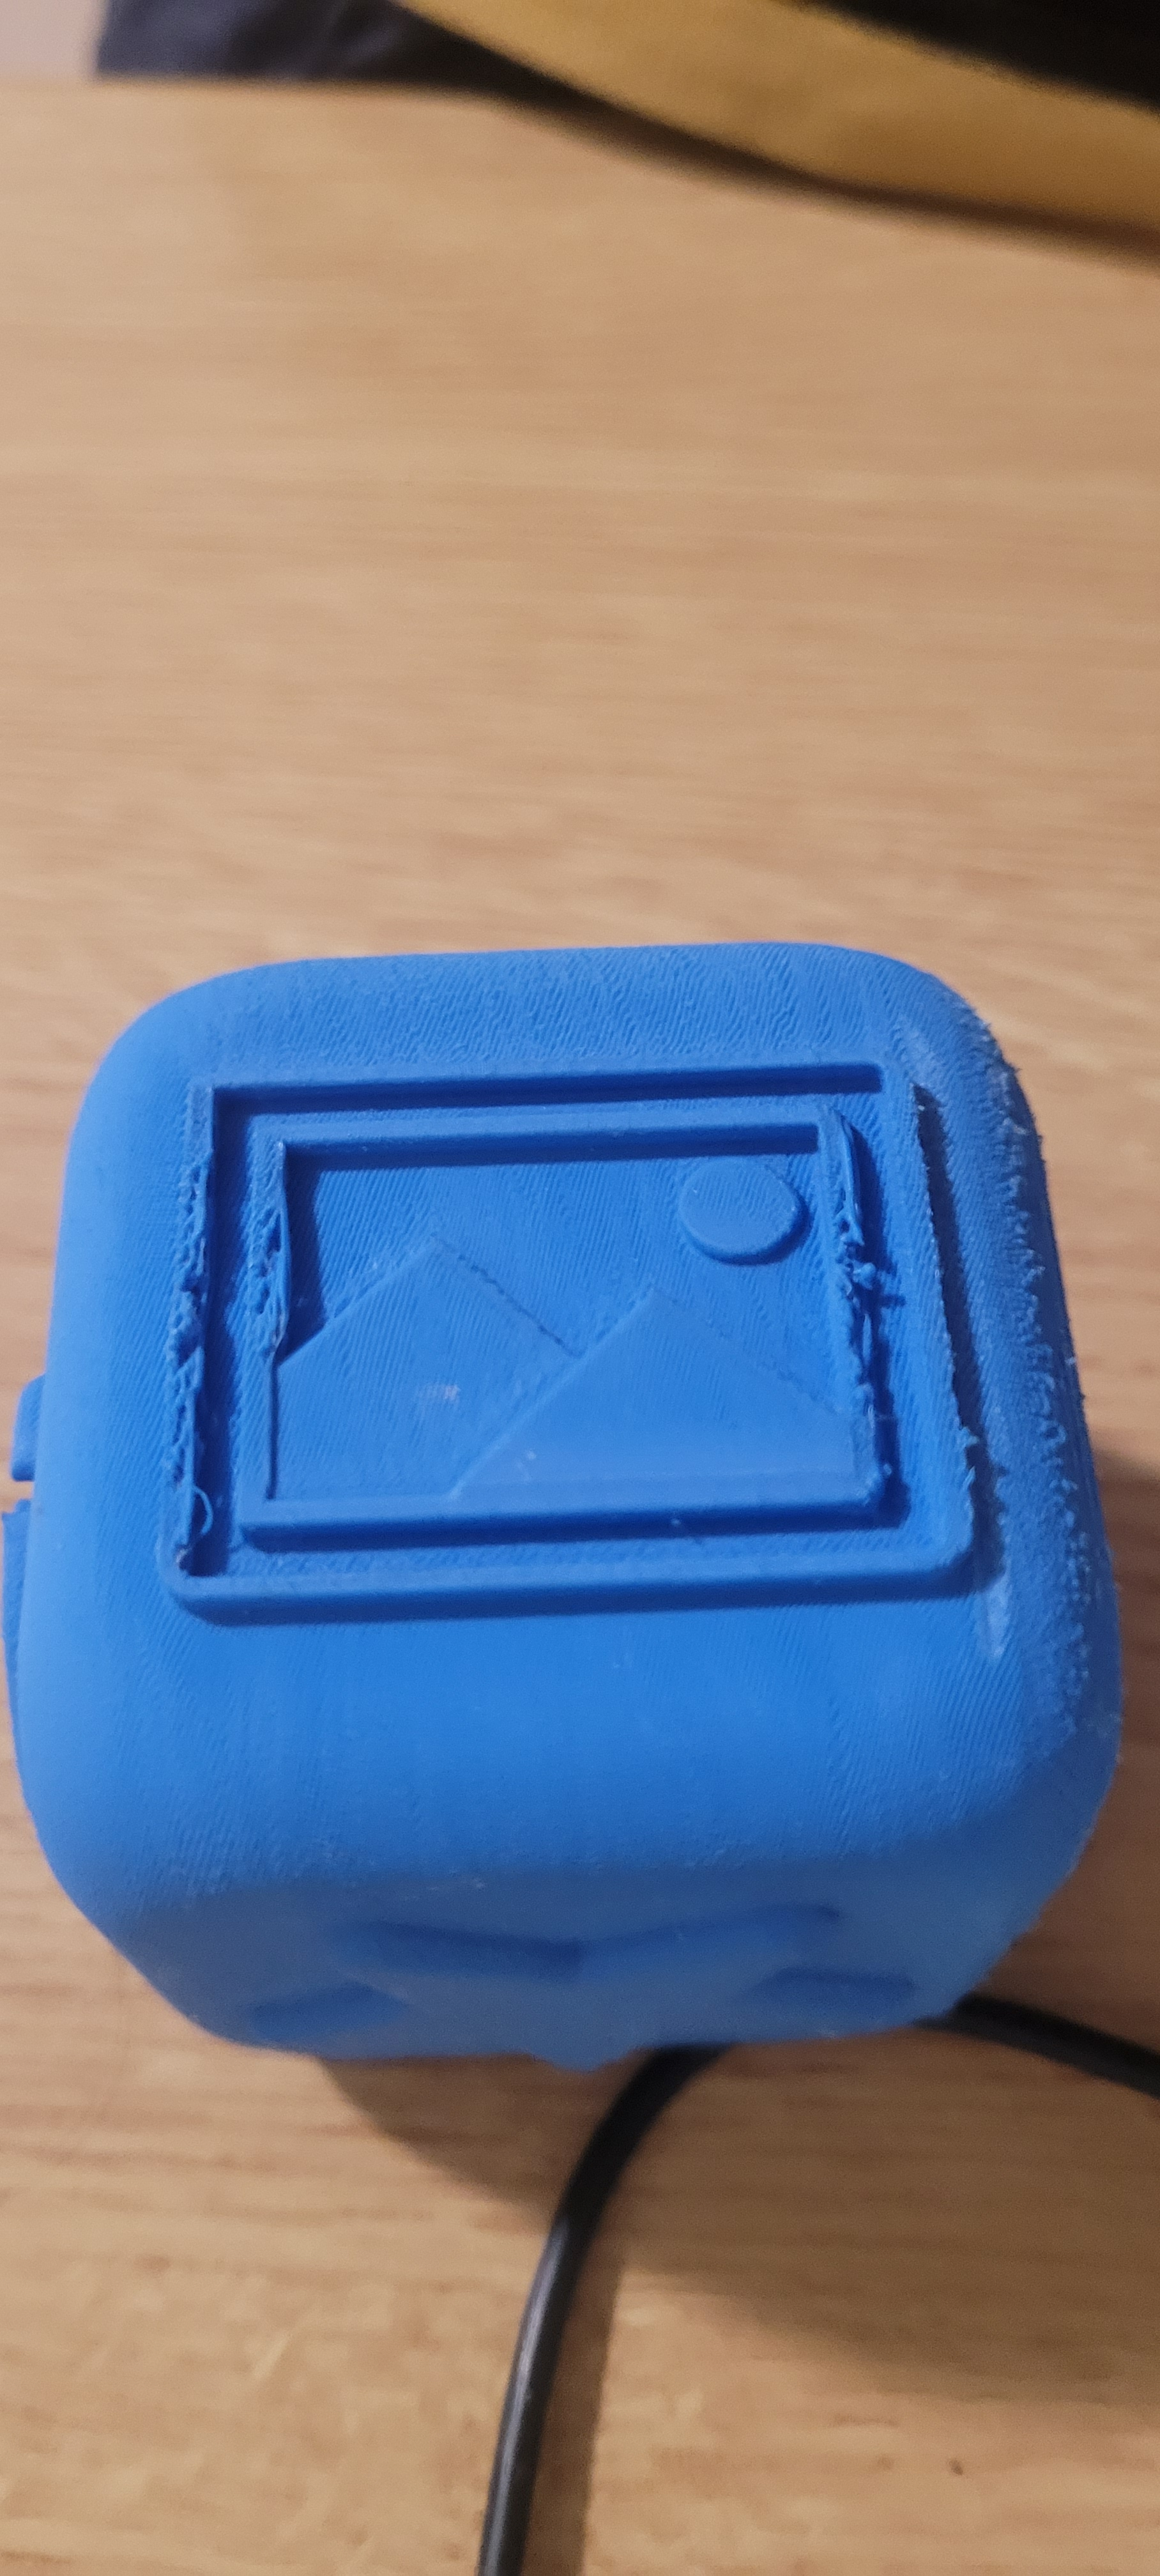Story: (148, 1040, 1056, 1679)
